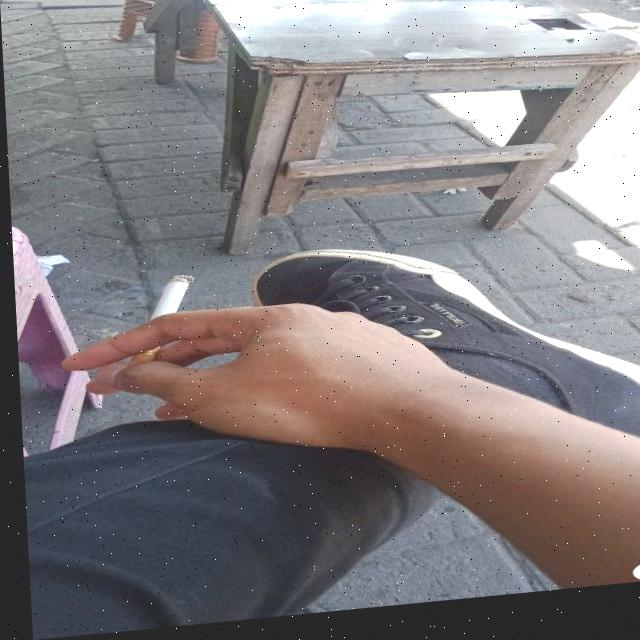cigarette: (125, 276, 194, 371)
